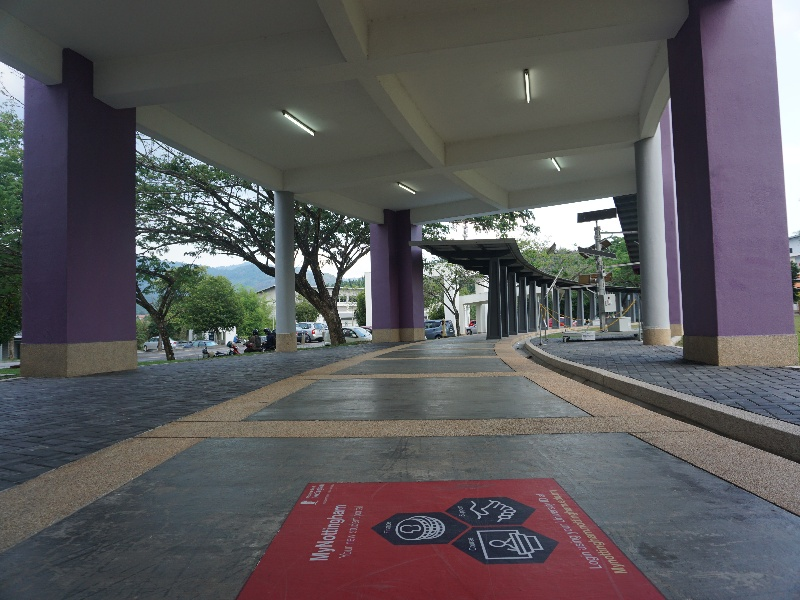Block D Pillar 4: (2, 4, 800, 522)
pillar: (662, 3, 798, 379), (18, 44, 142, 376), (634, 119, 678, 354), (365, 204, 432, 355), (270, 186, 303, 354), (487, 252, 500, 342)
